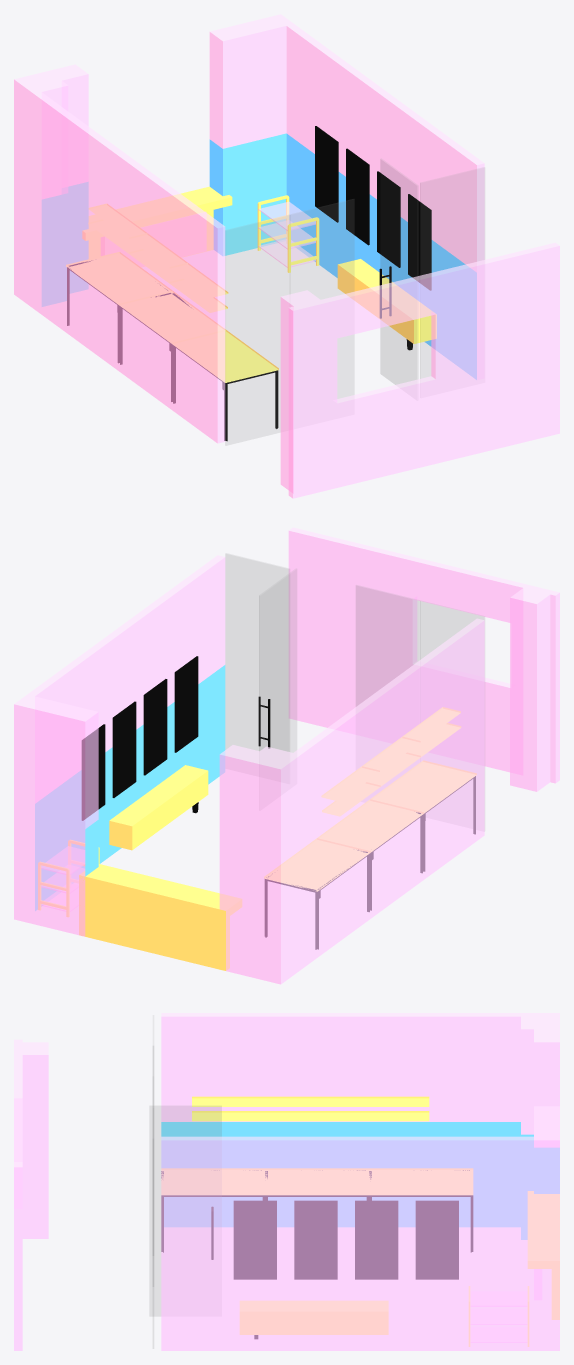
File: iuStudio.gltf
3 views of the same model, one above another, from view 1: azimuth 30°, elevation 25°; view 2: azimuth 150°, elevation 25°; view 3: azimuth 270°, elevation 25° (orthographic). The views are drawn at different scales.
Parts seen in each view (by area): view 1: Walls, Curve.007, Table top, poster, Curve.008, Curve.000, Glass door, Bench, Window, Table top.002, Shelves, Calorifer (+3 smaller); view 2: Walls, Window, Table top, poster, Curve.008, Glass door, Curve.000, Bench, Table top.002, Table top.001, Curve.007, Shelves (+2 smaller); view 3: Walls, poster, Table top, Bench, Glass door, Window, Shelves, Table top.001, Table top.002, Table frame.
Boxes of the visible parts, x1,y1,x2,y2 form: Walls: [14, 14, 559, 498]; Curve.007: [226, 215, 289, 445]; Table top: [66, 252, 278, 382]; poster: [315, 126, 431, 290]; Curve.008: [420, 167, 484, 378]; Curve.000: [290, 199, 353, 398]; Glass door: [381, 159, 417, 384]; Bench: [337, 259, 436, 343]; Window: [82, 186, 232, 266]; Table top.002: [89, 204, 228, 297]; Shelves: [258, 201, 315, 267]; Calorifer: [101, 212, 206, 266]; Walls: [14, 527, 559, 984]; Window: [79, 864, 241, 970]; Table top: [264, 760, 476, 891]; poster: [82, 656, 198, 820]; Curve.008: [226, 553, 289, 750]; Glass door: [259, 569, 296, 752]; Curve.000: [356, 585, 419, 705]; Bench: [109, 765, 208, 850]; Table top.002: [321, 707, 460, 801]; Table top.001: [322, 723, 460, 816]; Curve.007: [420, 601, 484, 659]; Shelves: [41, 846, 84, 911]; Walls: [14, 1013, 559, 1350]; poster: [234, 1201, 458, 1279]; Table top: [161, 1168, 472, 1194]; Bench: [240, 1301, 388, 1334]; Glass door: [150, 1106, 221, 1315]; Window: [528, 1191, 559, 1319]; Shelves: [471, 1291, 526, 1342]; Table top.001: [192, 1111, 429, 1121]; Table top.002: [192, 1096, 429, 1106]; Table frame: [161, 1170, 472, 1252].
Size of the model in its own units: 4.31 by 3.32 by 7.8.
